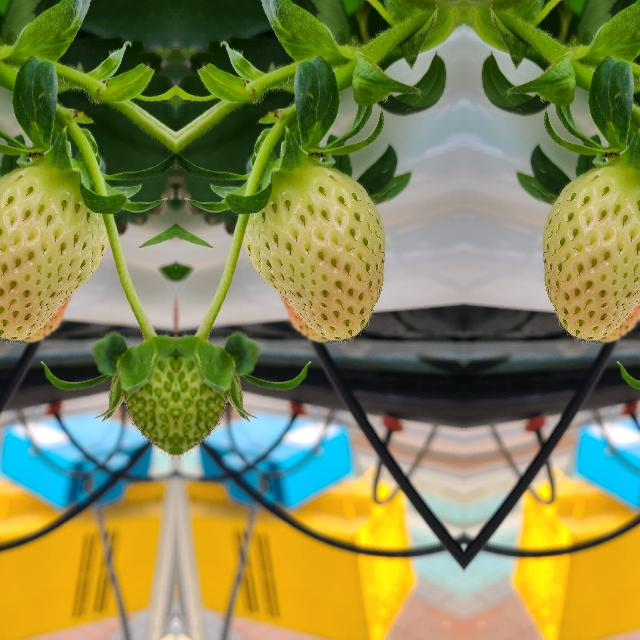Health_25: (242, 163, 386, 345), (0, 163, 108, 345), (540, 163, 640, 345)
